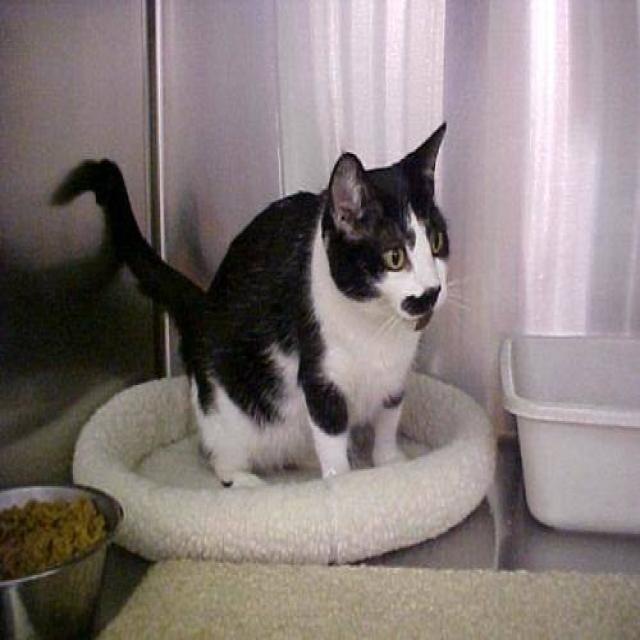Cat: (326, 118, 449, 323)
